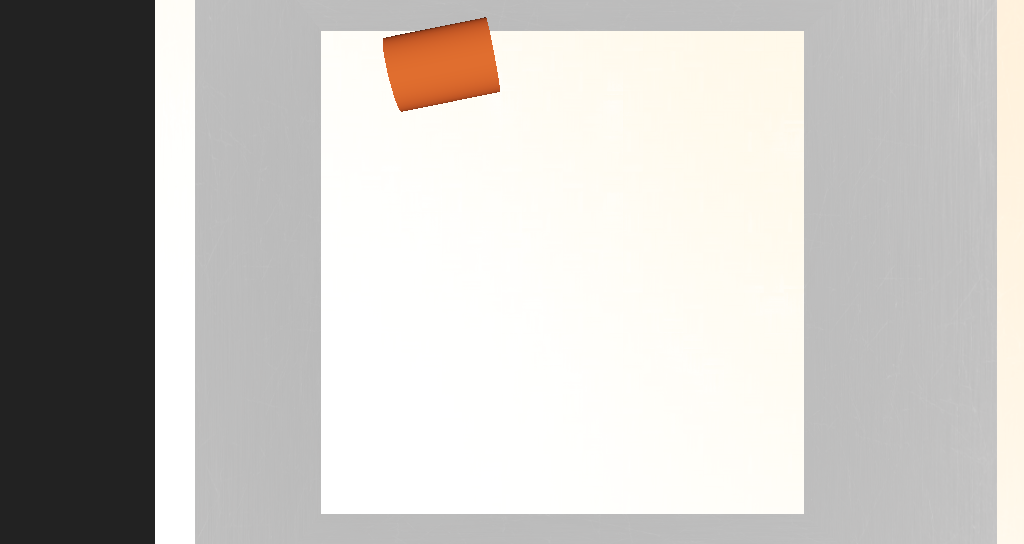cone: (394, 153, 468, 200)
cylinder: (714, 234, 862, 301)
sphere: (411, 74, 492, 136)
